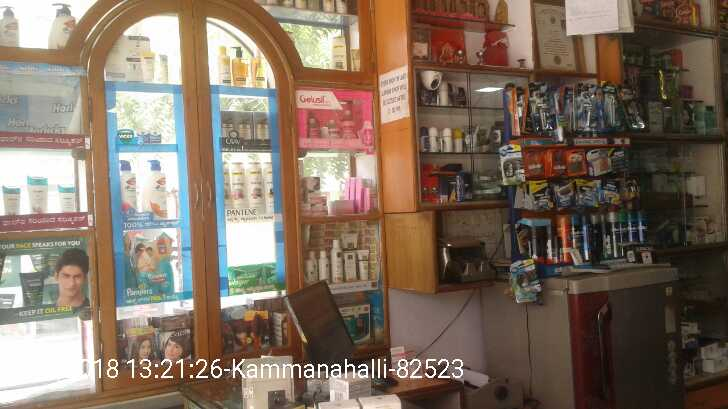vicks: (137, 128, 161, 145)
